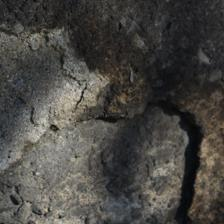Crack: (0, 2, 120, 98), (50, 17, 161, 80)
